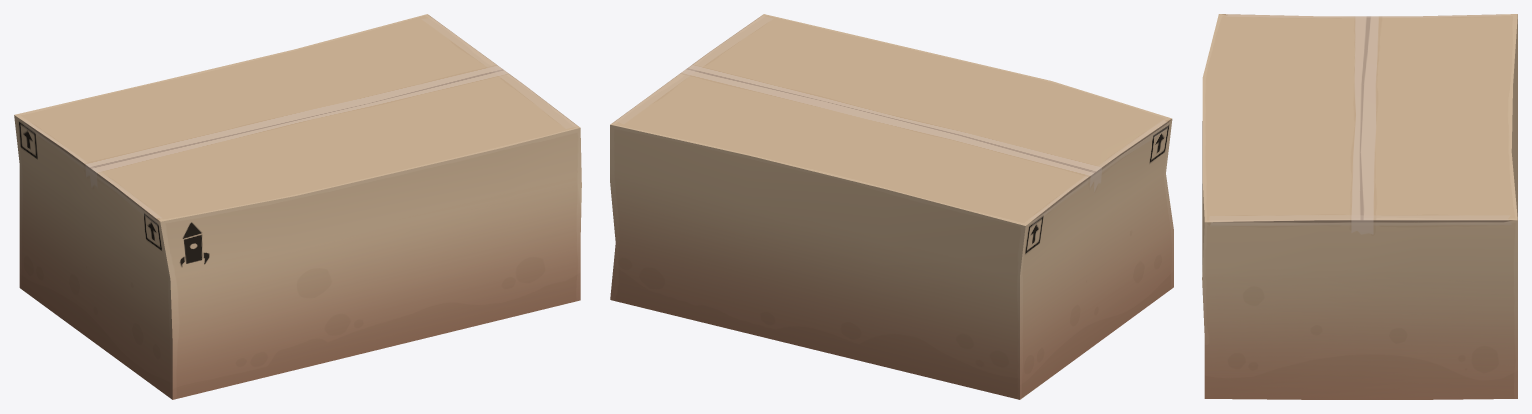
The picture shows the model from 3 angles, left to right: view 1: azimuth 30°, elevation 25°; view 2: azimuth 150°, elevation 25°; view 3: azimuth 270°, elevation 25°; orthographic projection. The views are drawn at different scales.
Visible parts, largest first — view 1: sm_Box4; view 2: sm_Box4; view 3: sm_Box4.
Boxes of the visible parts, x1,y1,x2,y2 form: sm_Box4: (14, 14, 581, 399); sm_Box4: (610, 14, 1173, 399); sm_Box4: (1202, 14, 1517, 399).
Size of the model in its own units: 3242 by 1318 by 2095.
